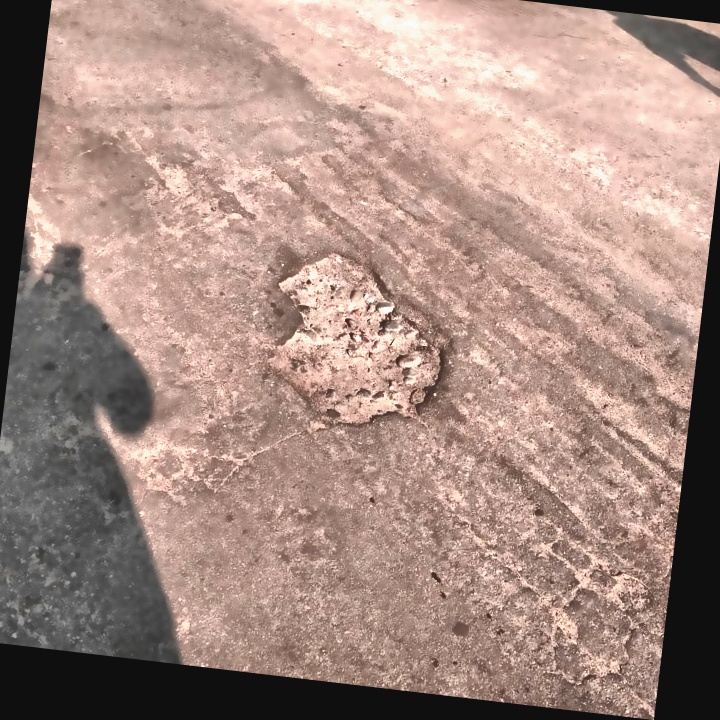pothole: (259, 244, 462, 440)
